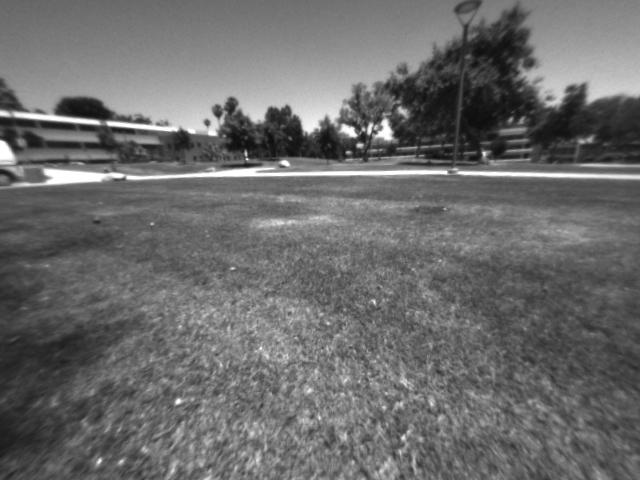dogtoy: (86, 209, 109, 227)
